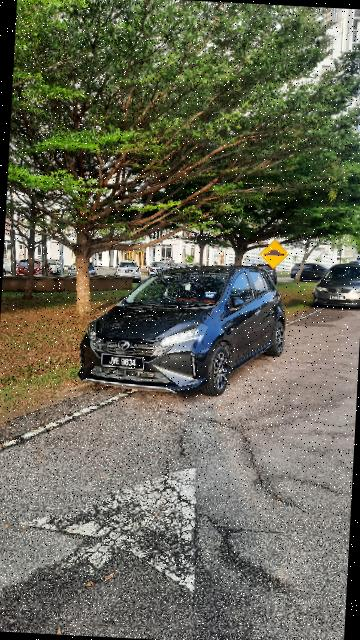License_Plate: (97, 349, 149, 376)
car: (72, 256, 296, 400)
